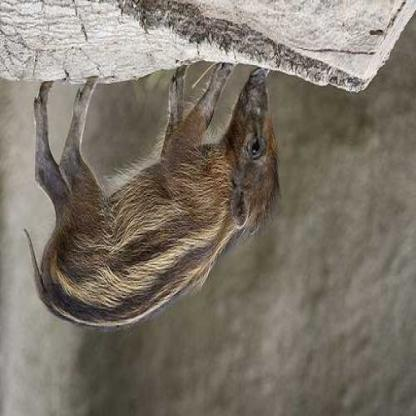boar: (20, 47, 308, 342)
